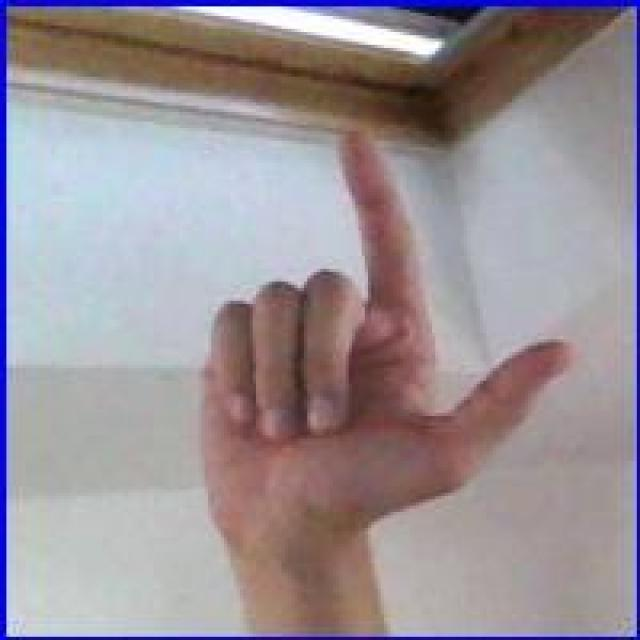L: (207, 125, 588, 579)
